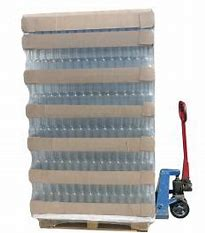Pallet Jack: (29, 98, 194, 233)
